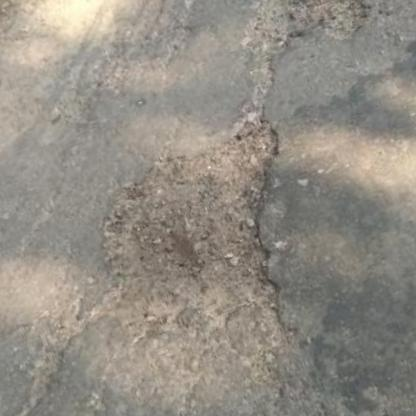pothole: (63, 106, 340, 369), (233, 0, 379, 69)
